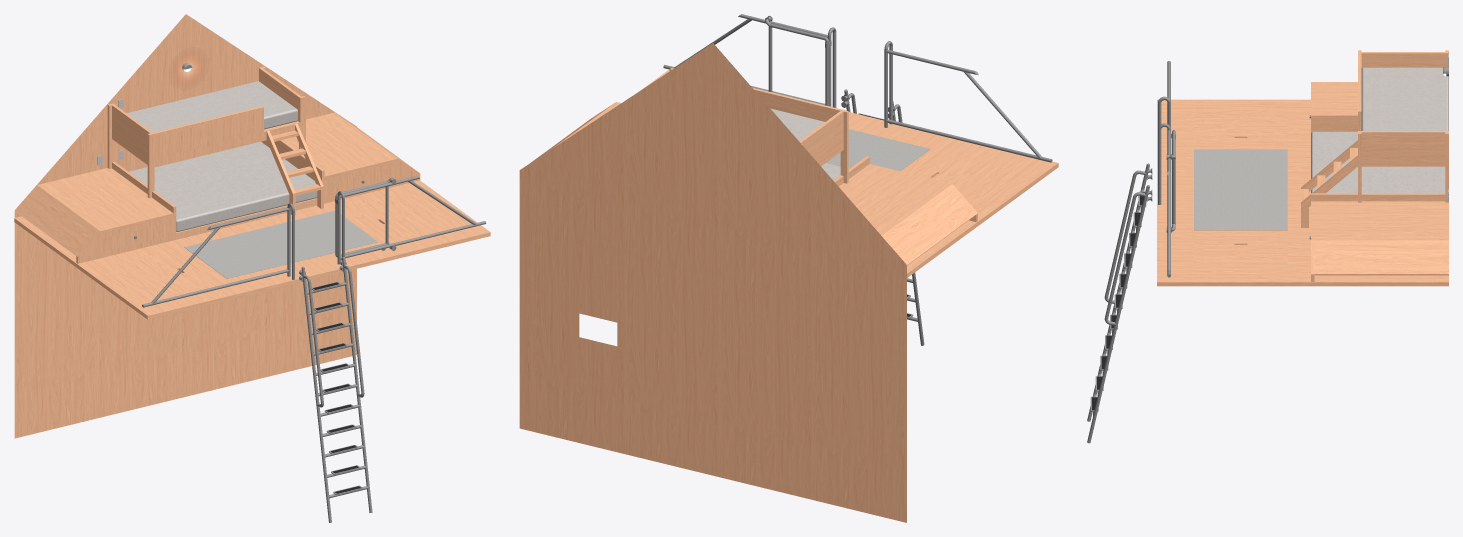
File: Mezzanine Bunk.glb
3 views of the same model, side by side, from view 1: azimuth 30°, elevation 25°; view 2: azimuth 150°, elevation 25°; view 3: azimuth 270°, elevation 25° (orthographic). The views are drawn at different scales.
Visible parts, largest first — view 1: Interior_Wood_Mezzanine Bunk, White_fabric_Mezzanine Bunk, Alumininum_1_Mezzanine Bunk, White Fabrics_Metress_Mezzanine Bunk, Black_Mezzanine Bunk; view 2: Interior_Wood_Mezzanine Bunk, Alumininum_1_Mezzanine Bunk, White Fabrics_Metress_Mezzanine Bunk, White_fabric_Mezzanine Bunk; view 3: Interior_Wood_Mezzanine Bunk, White_fabric_Mezzanine Bunk, White Fabrics_Metress_Mezzanine Bunk, Alumininum_1_Mezzanine Bunk, Black_Mezzanine Bunk.
Part boxes in pixels (x1,y1,x2,y2): Interior_Wood_Mezzanine Bunk: (14,14,490,438); White_fabric_Mezzanine Bunk: (127,81,317,231); Alumininum_1_Mezzanine Bunk: (134,62,485,522); White Fabrics_Metress_Mezzanine Bunk: (184,210,377,278); Black_Mezzanine Bunk: (313,282,360,493); Interior_Wood_Mezzanine Bunk: (519,43,1058,522); Alumininum_1_Mezzanine Bunk: (663,14,1052,345); White Fabrics_Metress_Mezzanine Bunk: (826,129,930,170); White_fabric_Mezzanine Bunk: (770,108,849,180); Interior_Wood_Mezzanine Bunk: (1157,50,1448,286); White_fabric_Mezzanine Bunk: (1311,67,1448,193); White Fabrics_Metress_Mezzanine Bunk: (1194,149,1287,230); Alumininum_1_Mezzanine Bunk: (1087,61,1448,443); Black_Mezzanine Bunk: (1092,192,1144,410).
Size of the model in its own units: 1.88 by 2.01 by 1.58.
Materials: 9 (6 with a texture image).
